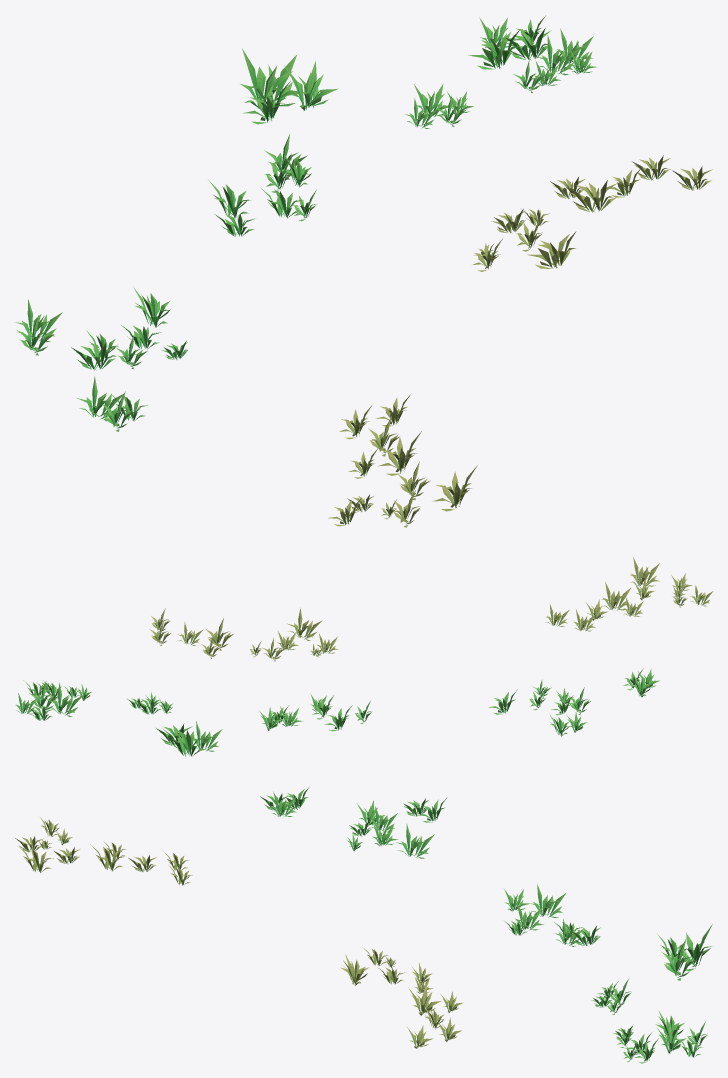
Rendered from area_12_12.fbx.
3 renders of one model, top to bottom at view 1: azimuth 30°, elevation 25°; view 2: azimuth 150°, elevation 25°; view 3: azimuth 270°, elevation 25°, orthographic. The views are drawn at different scales.
Parts seen in each view (by area): view 1: area_12_12; view 2: area_12_12; view 3: area_12_12.
Part boxes in pixels (bbox=[...]): area_12_12: bbox=[14, 15, 712, 527]; area_12_12: bbox=[15, 557, 713, 756]; area_12_12: bbox=[15, 787, 712, 1063].
Bounding box in the file's own units: 23.99 × 1.64 × 26.72.
